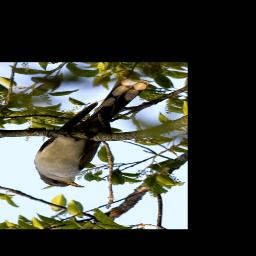Cuckoo: (34, 79, 148, 188)
